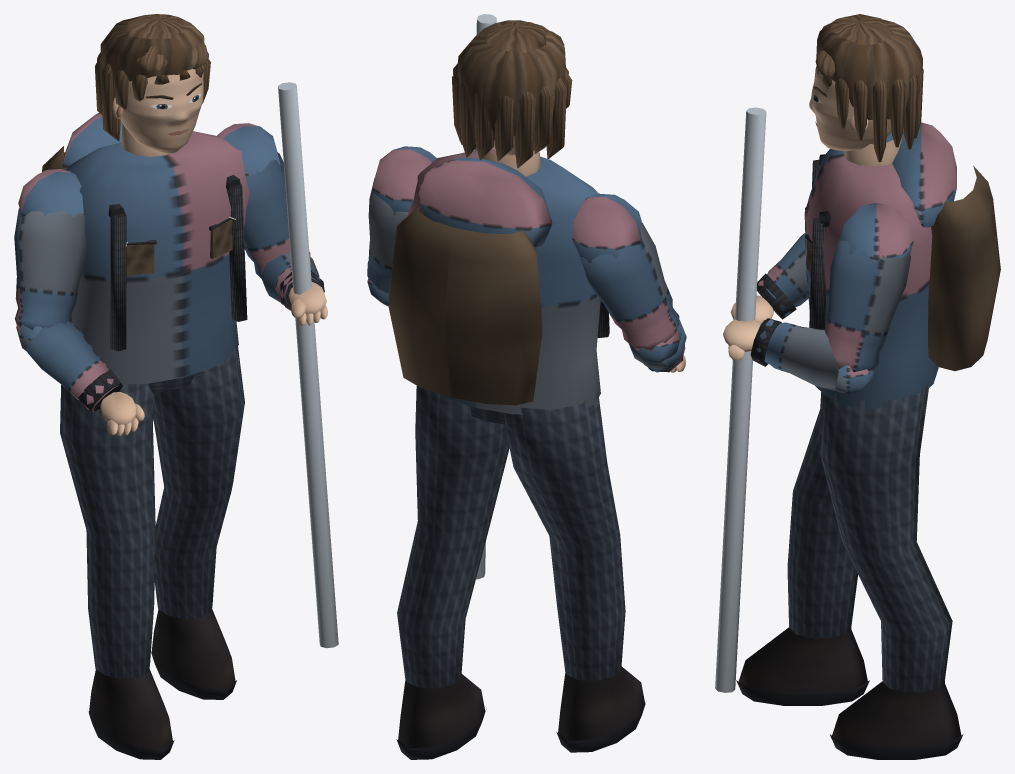
Rendered from HERO-02_fedor-tube.glb.
The picture shows the model from 3 angles, left to right: view 1: azimuth 30°, elevation 25°; view 2: azimuth 150°, elevation 25°; view 3: azimuth 270°, elevation 25°; orthographic projection. The views are drawn at different scales.
Parts seen in each view (by area): view 1: fedor · soles; view 2: fedor · soles; view 3: fedor · soles.
Boxes of the visible parts, box(x1,y1,x2,y2) form: fedor · soles: box(14, 14, 338, 759); fedor · soles: box(367, 14, 686, 759); fedor · soles: box(715, 14, 1000, 759).
Size of the model in its own units: 0.8013 by 1.78 by 0.6593.
3 materials, 2 textured.
